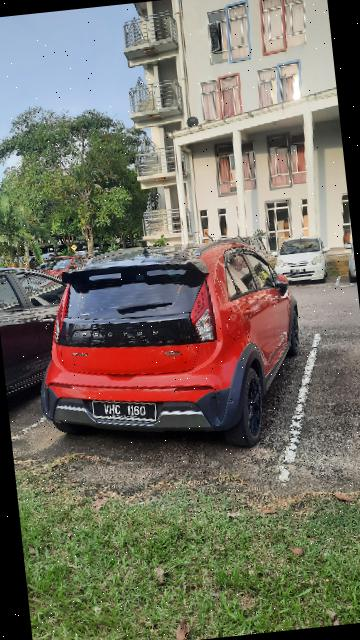License_Plate: (90, 386, 164, 434), (291, 268, 308, 276)
car: (25, 236, 316, 468), (270, 228, 331, 289)
